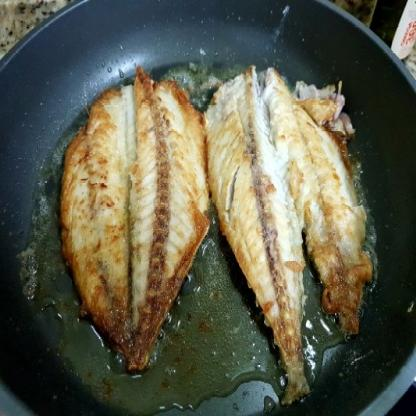Peixe: (31, 53, 380, 396)
